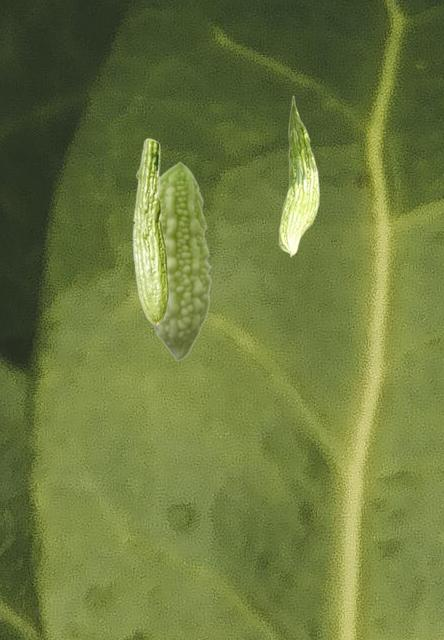ampalaya: (150, 161, 212, 361), (130, 136, 170, 327), (278, 94, 320, 258)
